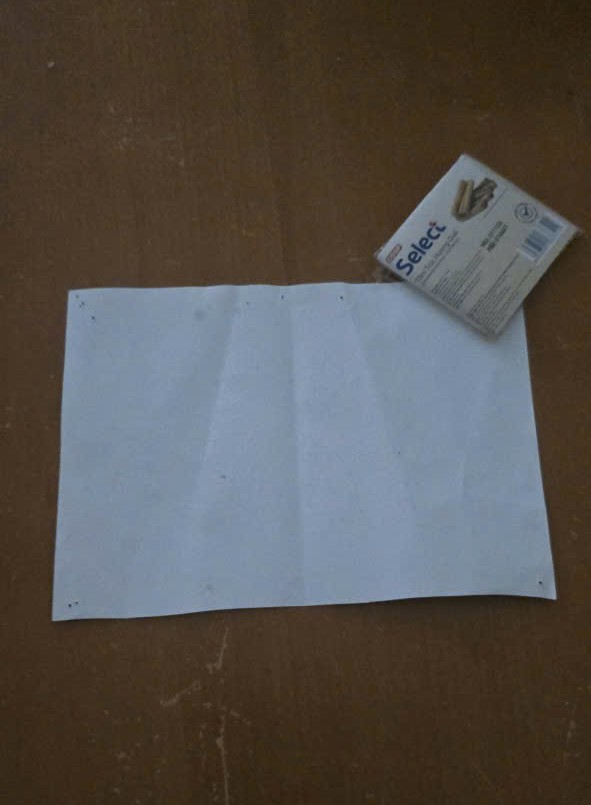paper: (45, 275, 564, 627)
